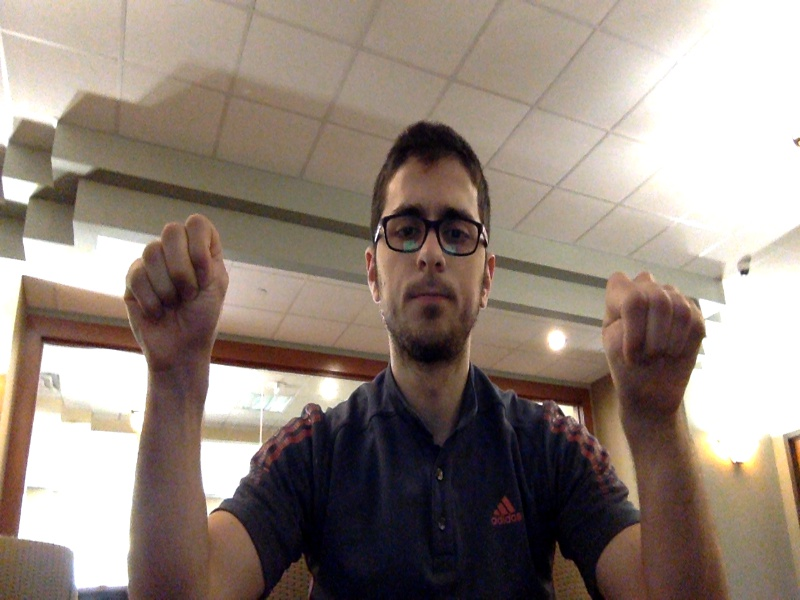0-hand: (123, 212, 227, 365), (603, 268, 704, 410)
